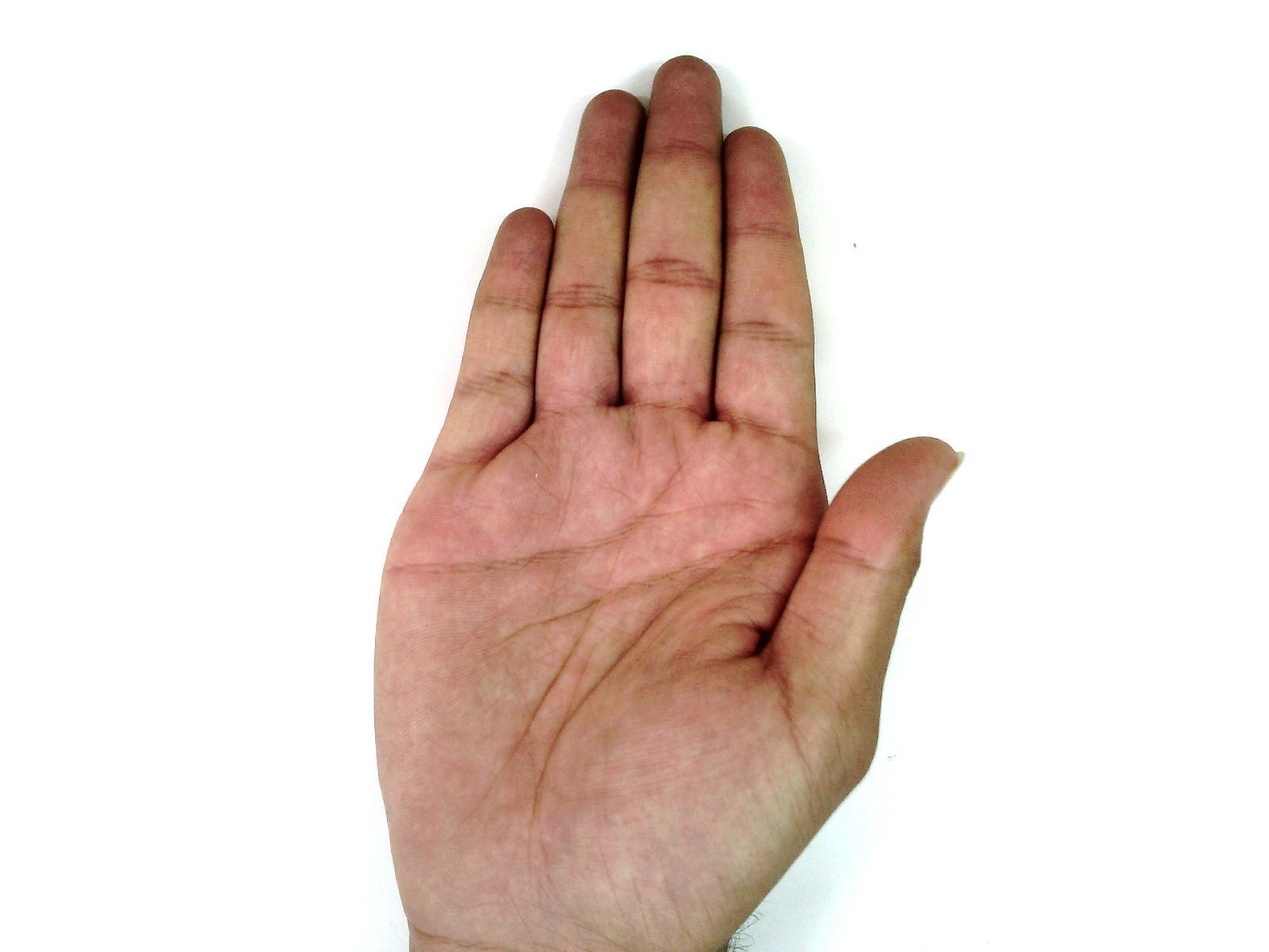open_palm: (369, 55, 966, 951)
